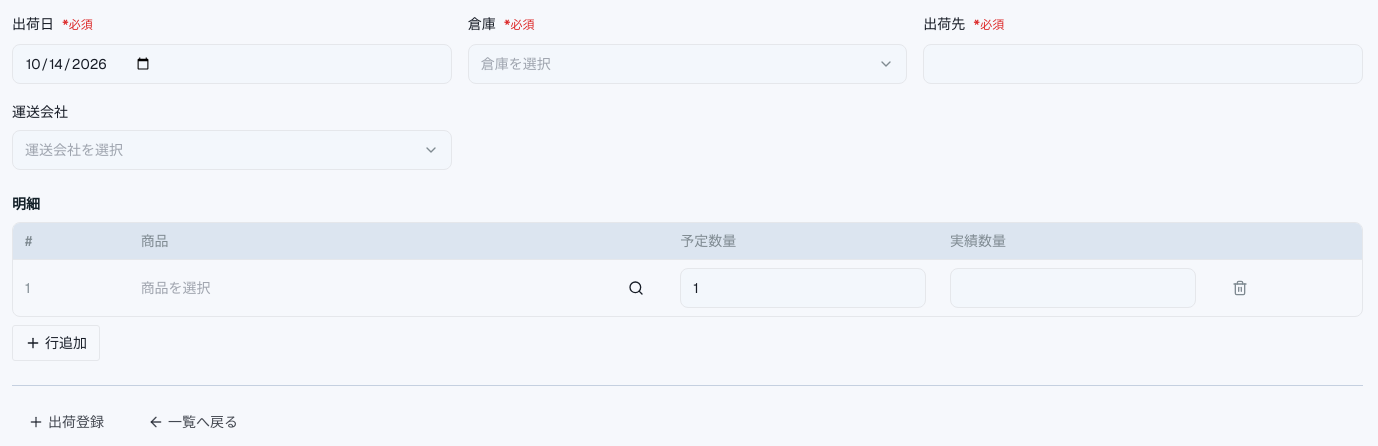
ShipmentForm - インタラクション › 運送会社のSelect選択肢が読み込まれること
Step 1. Click the button "運送会社を選択" → (74, 150), box x1=12 y1=130 x2=452 y2=170
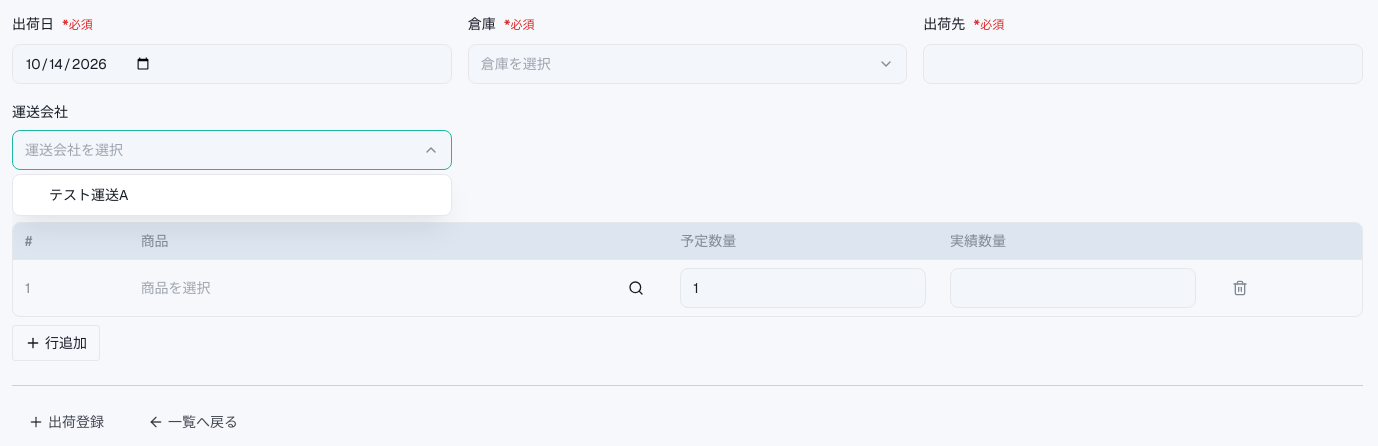
Expected: the option "テスト運送A" is shown, x1=49 y1=186 x2=128 y2=204
